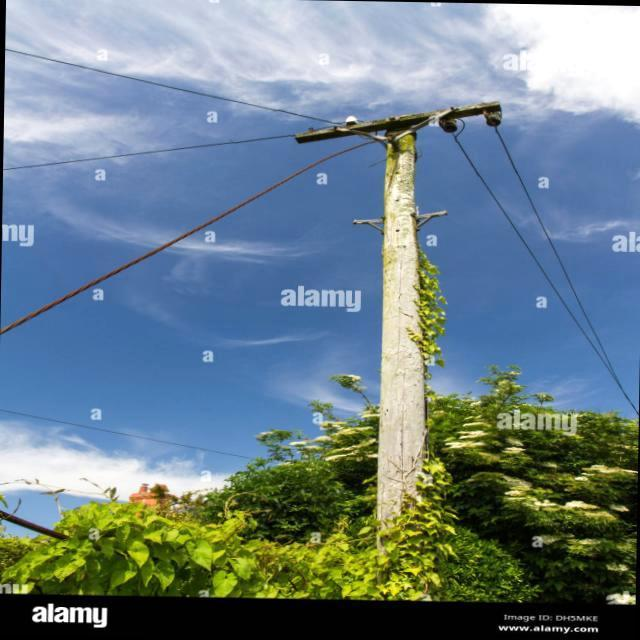light_pole: (312, 102, 488, 397)
